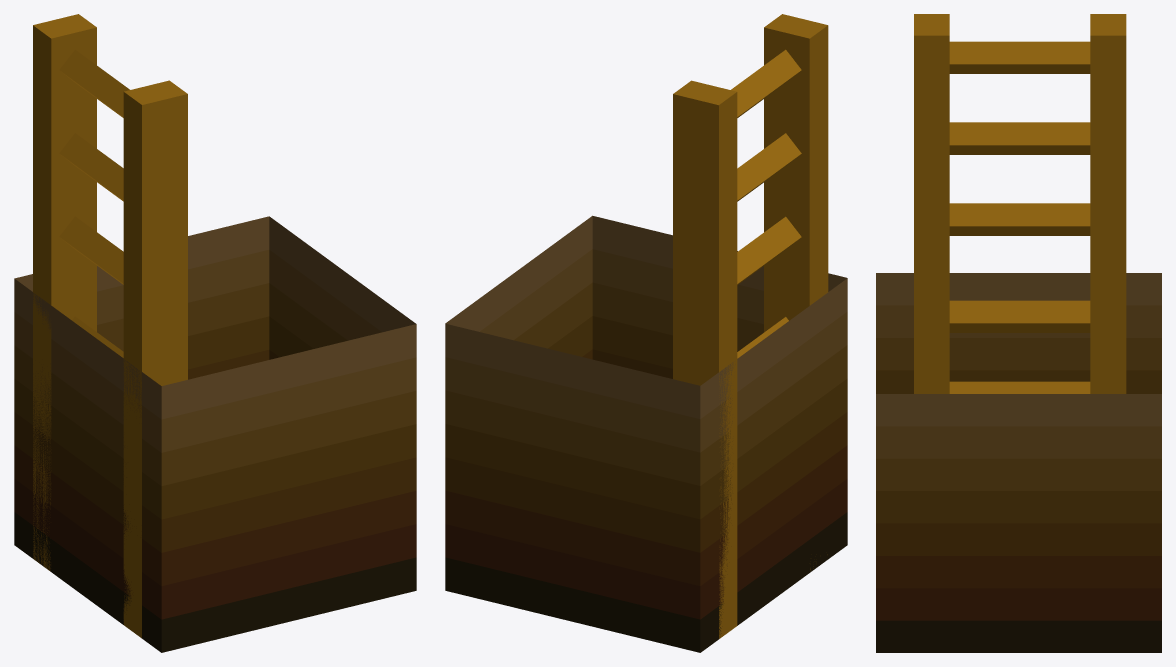
The model's file is obj_ladder_57_0.obj.
3 renders of one model, left to right at view 1: azimuth 30°, elevation 25°; view 2: azimuth 150°, elevation 25°; view 3: azimuth 270°, elevation 25°, orthographic. The views are drawn at different scales.
Size of the model in its own units: 1 by 2 by 1.
